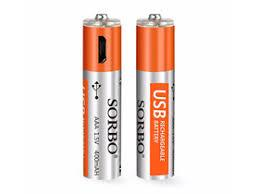AAA: (135, 12, 175, 181), (81, 12, 121, 180)
